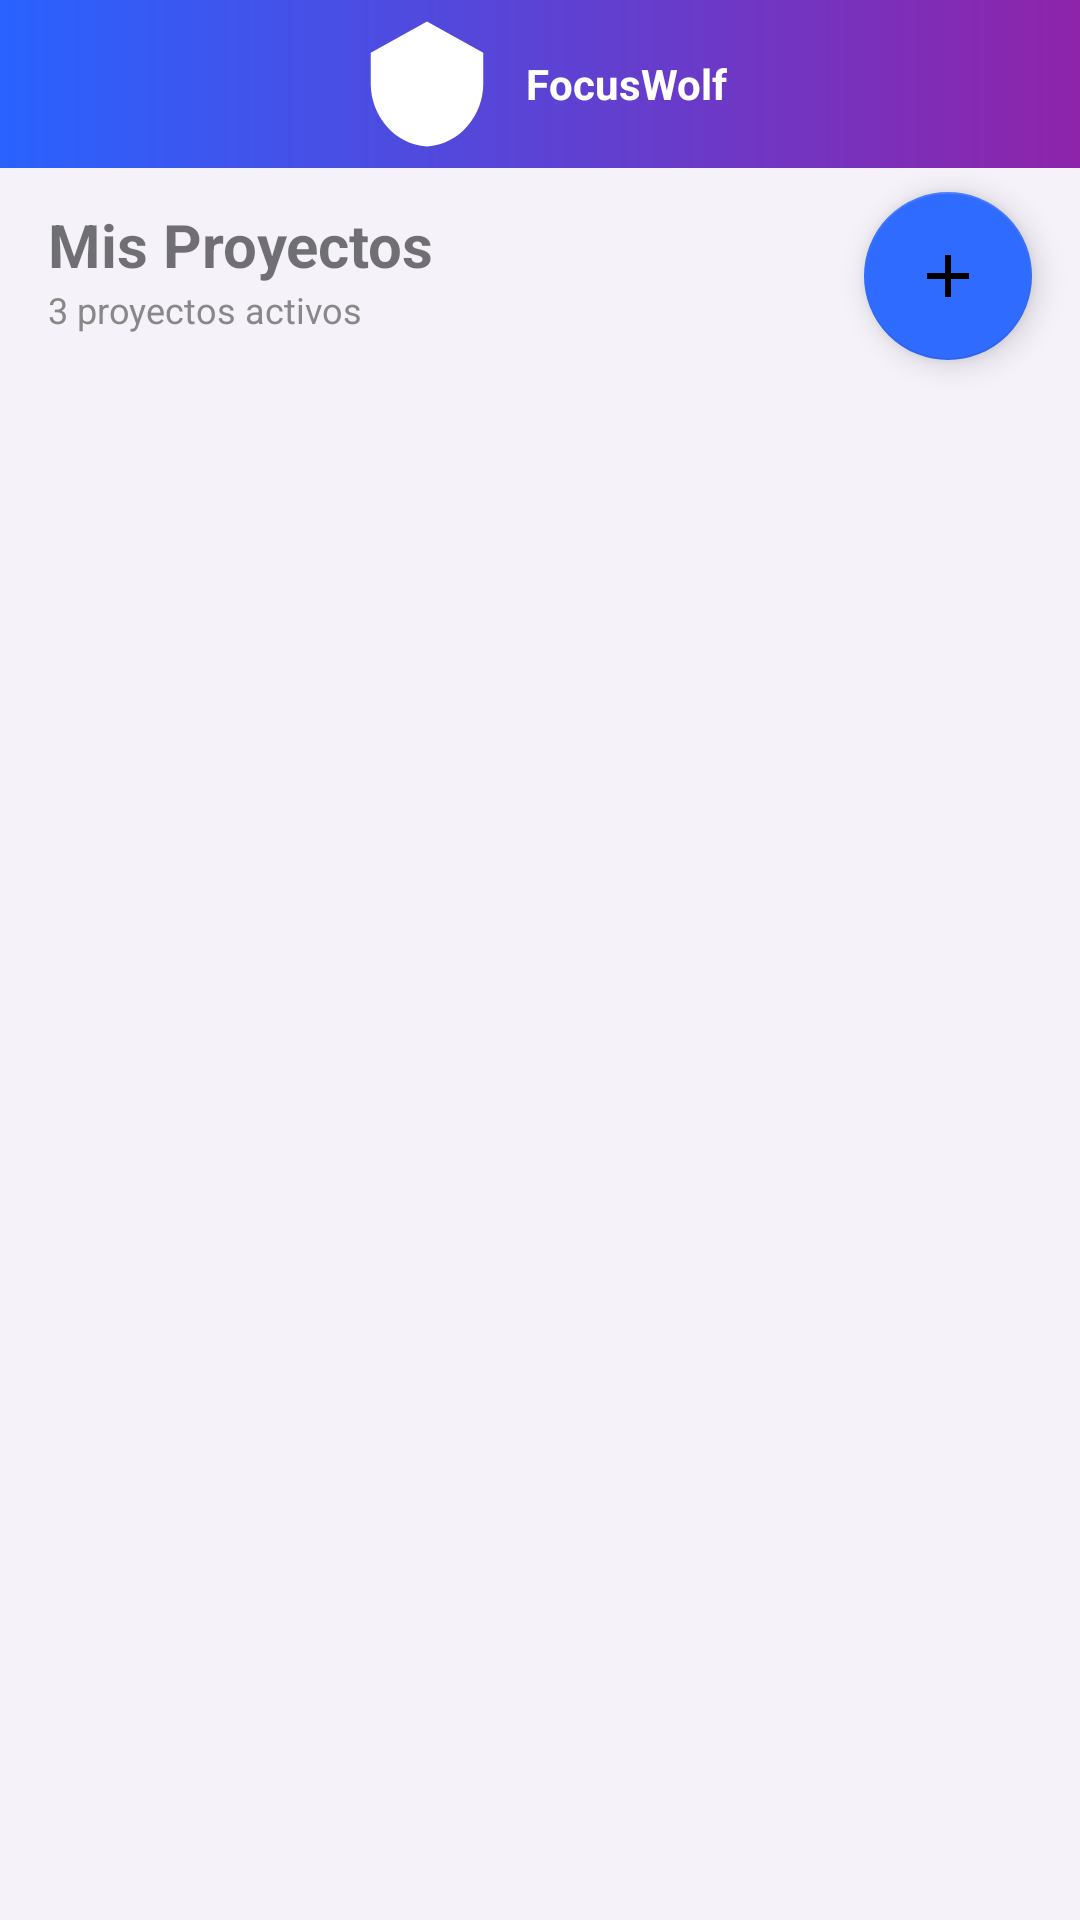

Icons on this 1080w x 1920h Android screen, each with its box as (x1, y1, x2, y2):
add: (864, 192, 1032, 360)
